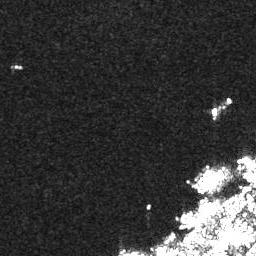ship: (9, 62, 23, 70), (210, 106, 217, 121)
